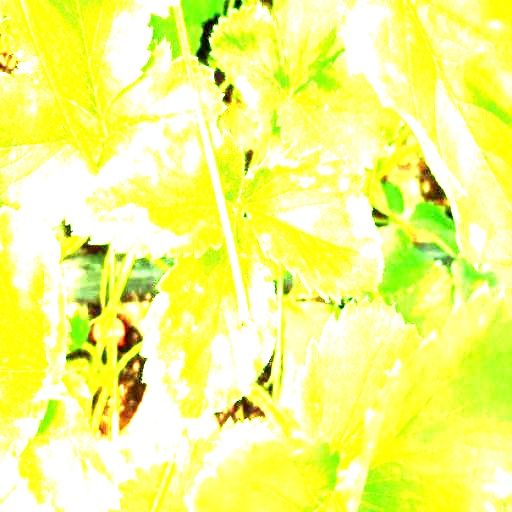Powdery Mildew Leaf: (337, 0, 511, 270), (141, 210, 279, 425), (72, 109, 246, 261), (240, 141, 384, 303), (0, 207, 69, 467), (8, 381, 122, 511)
